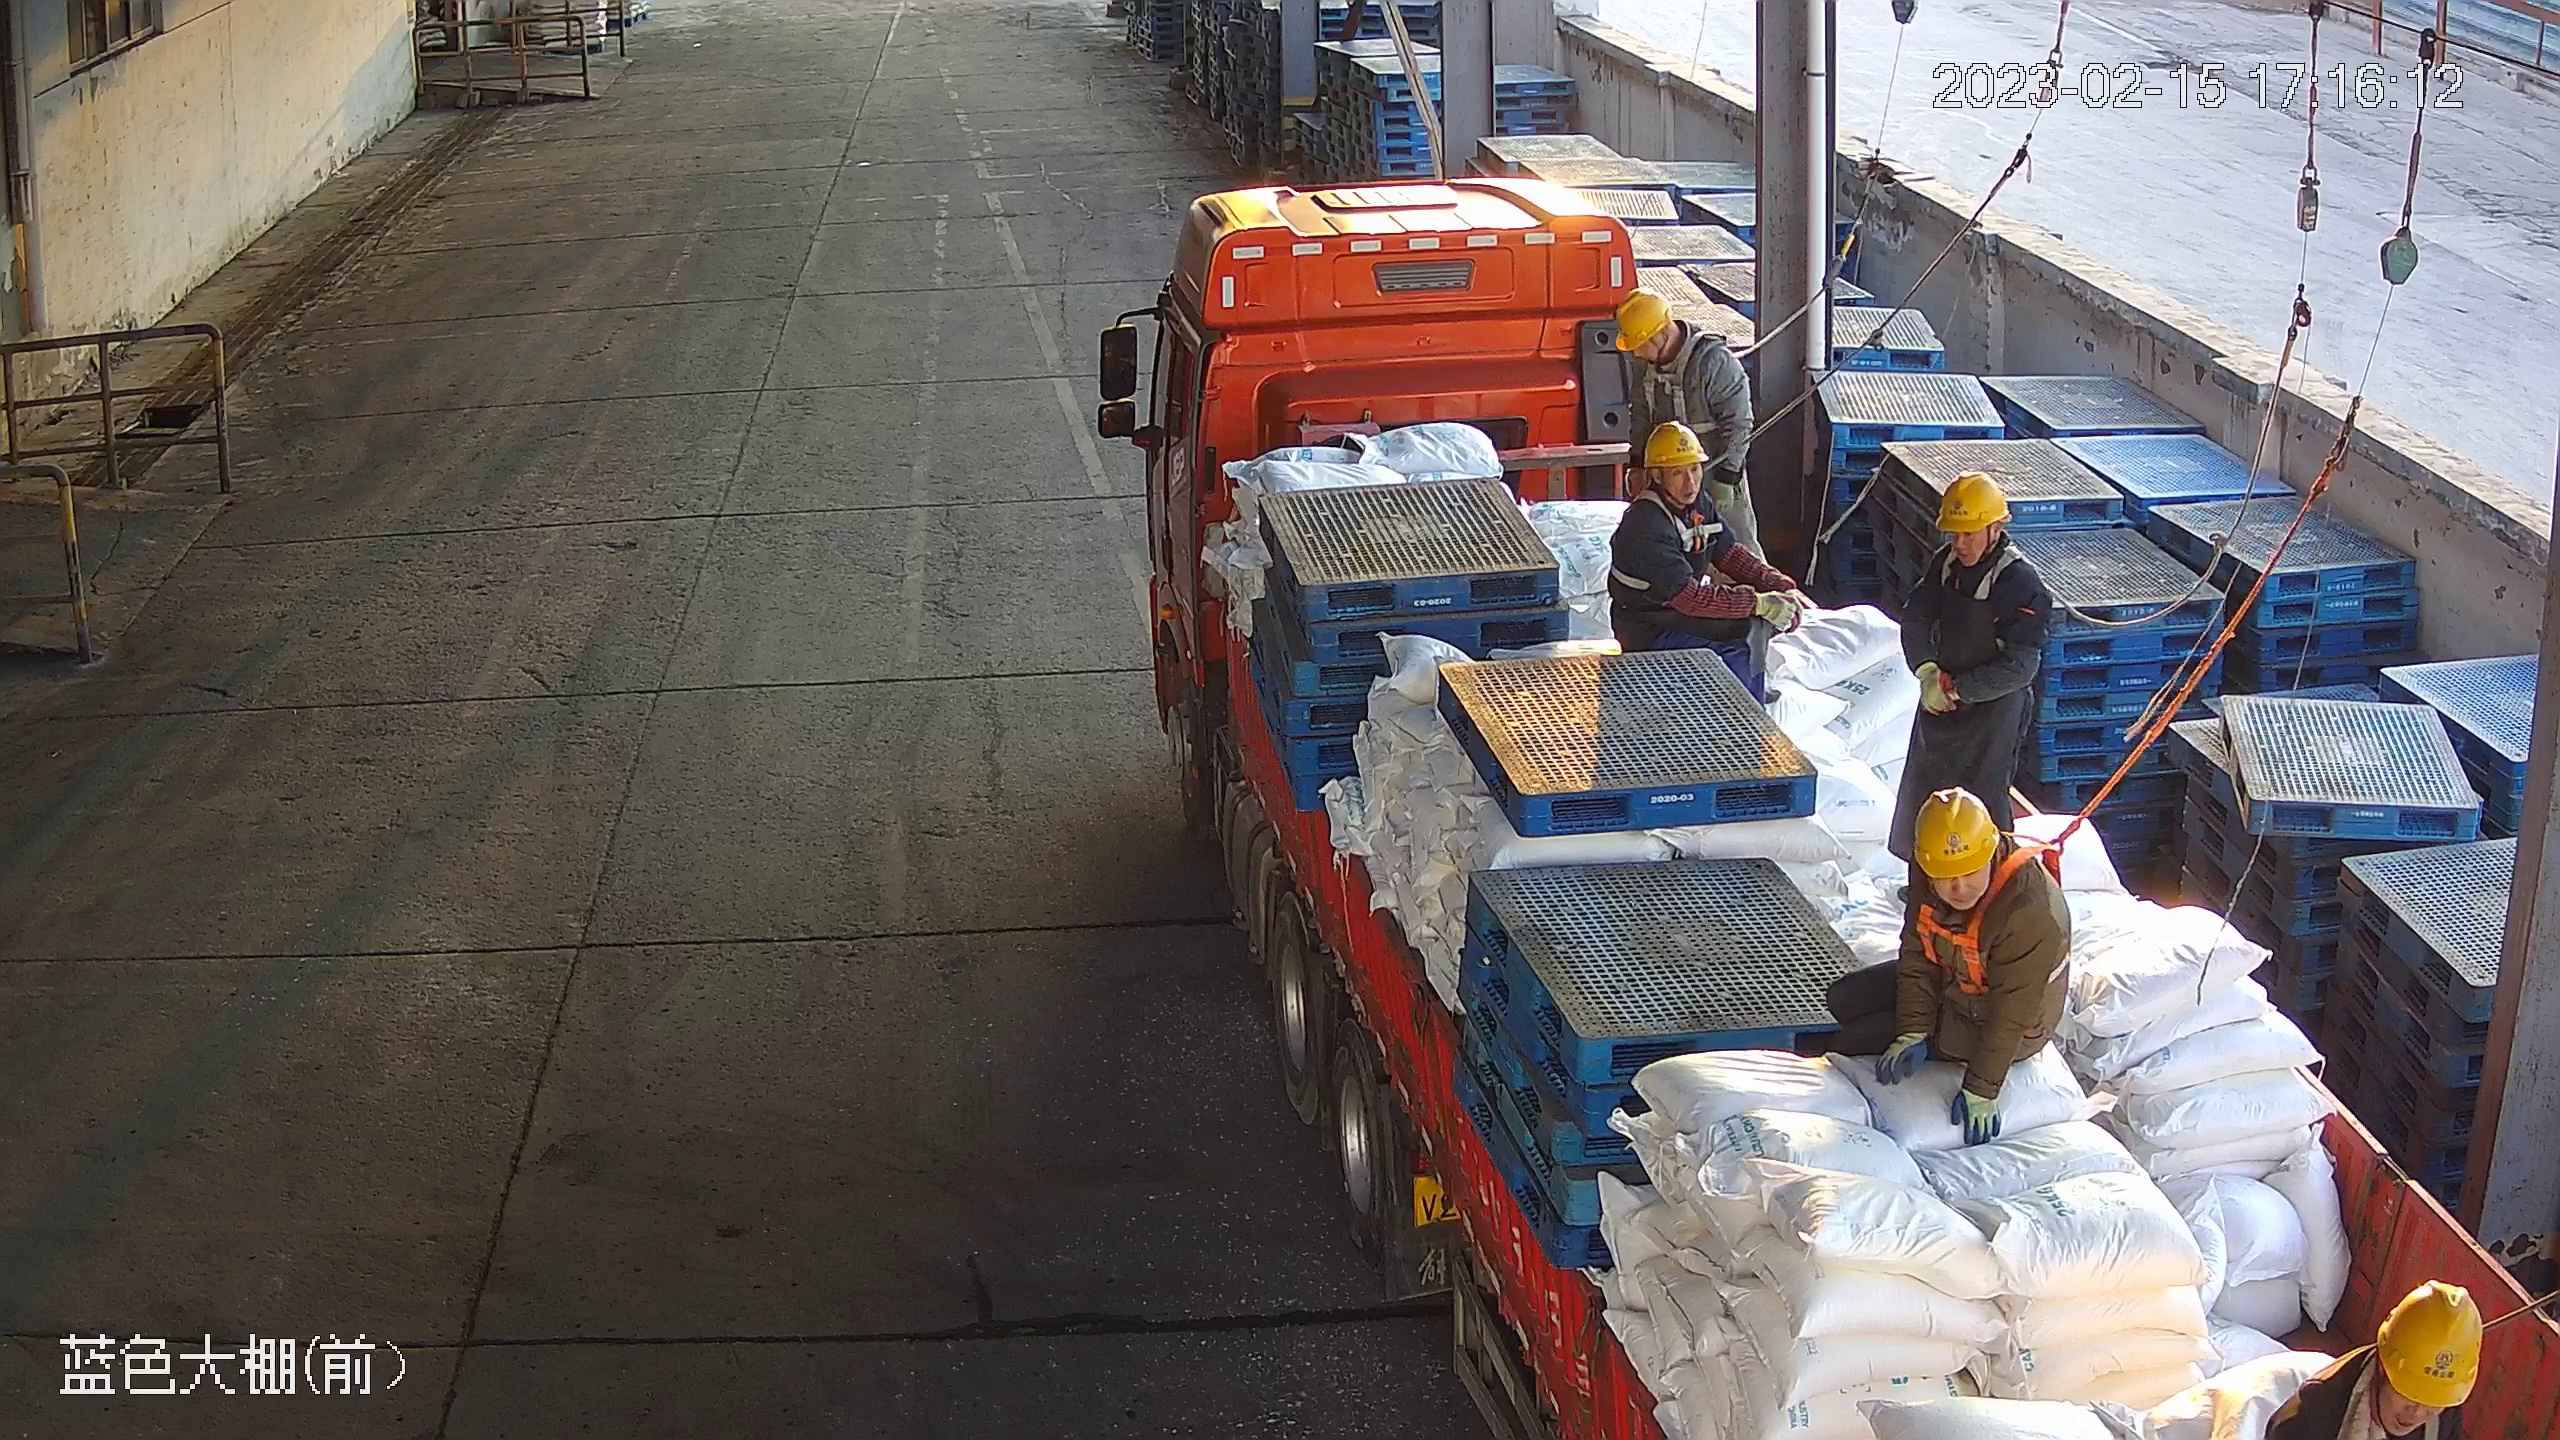belt: (1914, 846, 2066, 994), (1603, 481, 1725, 590), (1629, 353, 1731, 436), (1931, 536, 2033, 594)
head: (1888, 797, 2075, 951), (1901, 468, 2046, 607), (1606, 422, 1744, 563), (1614, 299, 1751, 407)
helmet: (2370, 1266, 2492, 1412), (1899, 786, 2005, 873), (1935, 464, 2018, 538), (1612, 290, 1686, 353), (1638, 423, 1727, 470)
people: (1838, 781, 2088, 1144), (1892, 468, 2051, 877), (1596, 420, 1798, 688)
truck: (1101, 164, 2560, 1440)
